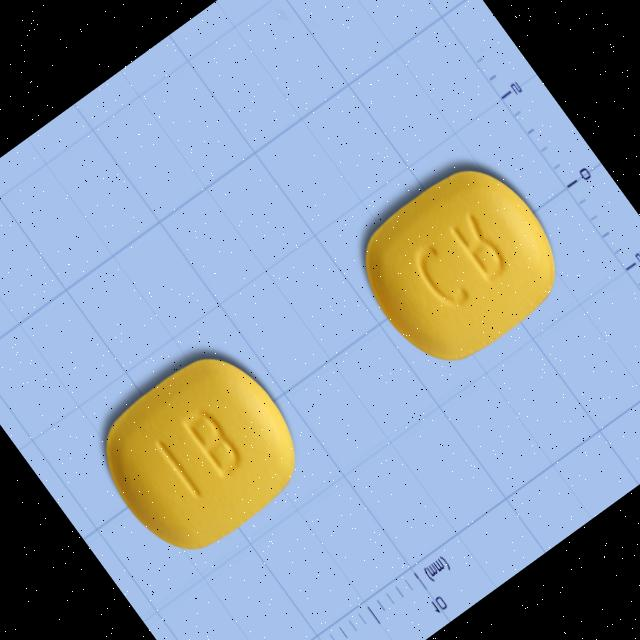Clacin -500mg: (334, 136, 588, 388), (76, 326, 328, 576)
